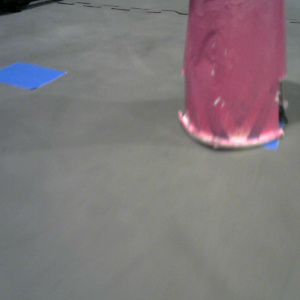Right: (178, 1, 288, 148)
